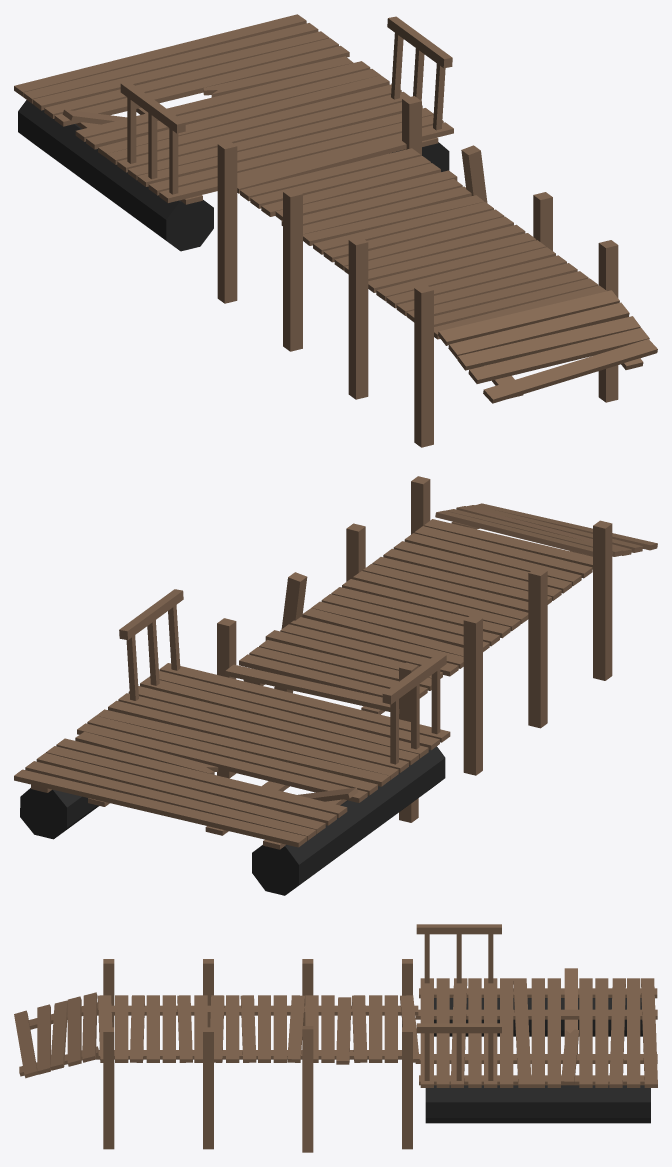
The model's file is Laituri.fbx.
The picture shows the model from 3 angles, top to bottom: view 1: azimuth 30°, elevation 25°; view 2: azimuth 150°, elevation 25°; view 3: azimuth 270°, elevation 25°; orthographic projection. The views are drawn at different scales.
Visible parts, largest first — view 1: Cube; view 2: Cube; view 3: Cube.
Part boxes in pixels (<box>): Cube: <box>14,14,657,447</box>; Cube: <box>14,476,657,895</box>; Cube: <box>14,924,657,1152</box>.
Size of the model in its own units: 973 by 587 by 2482.
